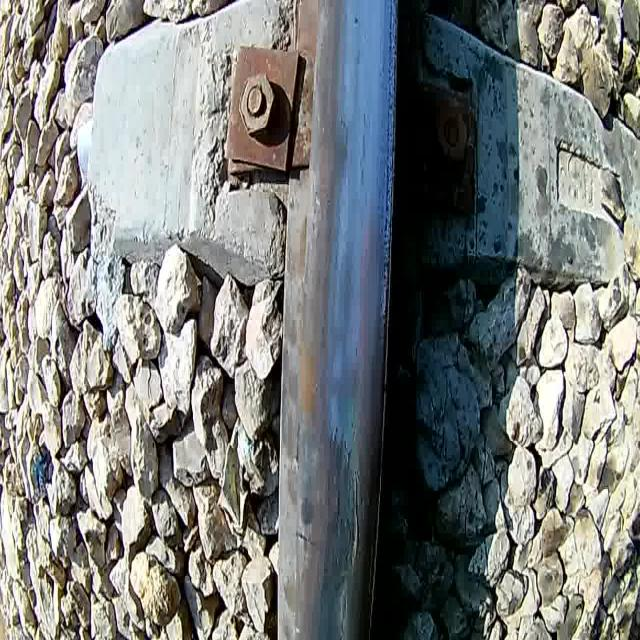Cracks: (332, 420, 360, 640), (292, 515, 319, 557), (289, 420, 308, 474)
Flakings: (363, 0, 402, 640)
Squats: (294, 418, 365, 633)
